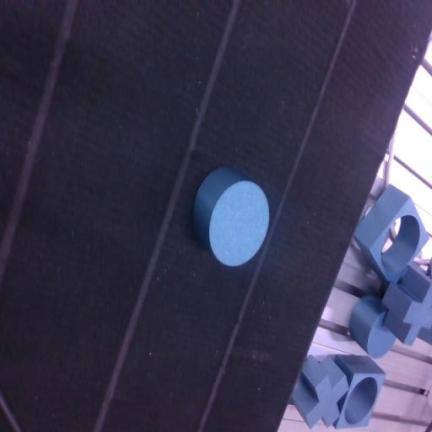cylinder: (193, 167, 269, 266)
